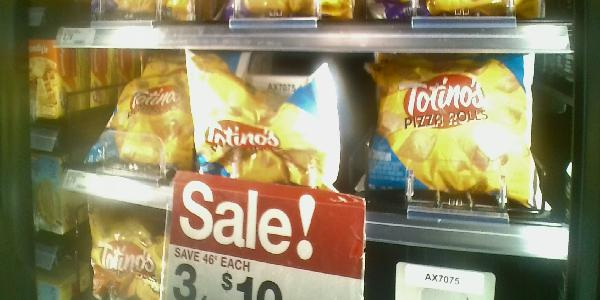icecream: (355, 53, 555, 211), (185, 49, 345, 193), (82, 48, 194, 177)
